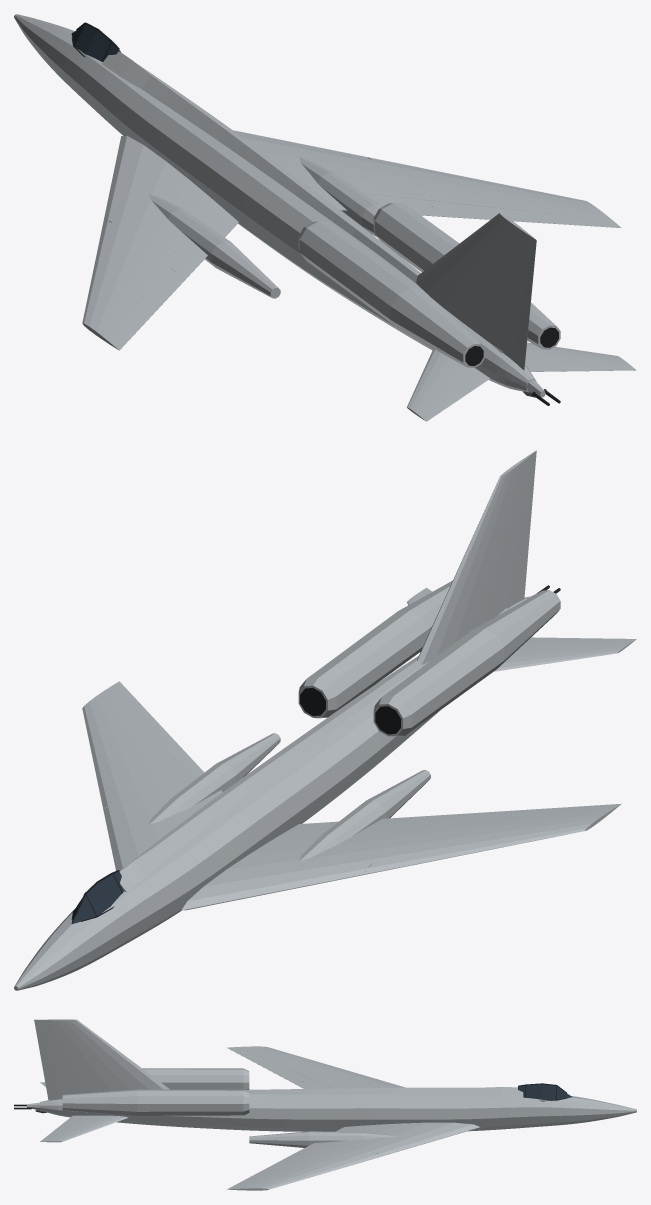
3 views of the same model, one above another, from view 1: azimuth 30°, elevation 25°; view 2: azimuth 150°, elevation 25°; view 3: azimuth 270°, elevation 25° (orthographic). The views are drawn at different scales.
Visible parts, largest first — view 1: Fuselage, Wing L, Nacelles, Wing R, Vertical Fin, Gear Pods, Dorsal Spine, Rudder, Flap L, Stabilizer L, Flap R, Elevator L (+5 smaller); view 2: Fuselage, Nacelles, Wing L, Wing R, Vertical Fin, Gear Pods, Dorsal Spine, Rudder, Stabilizer L, Flap L, Cockpit Glass, Flap R (+3 smaller); view 3: Fuselage, Nacelles, Wing R, Vertical Fin, Wing L, Rudder, Dorsal Spine, Gear Pods, Stabilizer R, Cockpit Glass, Flap R, Flap L (+3 smaller).
Part boxes in pixels (x1,y1,x2,y2): Fuselage: [14, 14, 536, 392]; Wing L: [82, 135, 238, 350]; Nacelles: [298, 203, 560, 367]; Wing R: [233, 130, 621, 227]; Vertical Fin: [416, 213, 523, 335]; Gear Pods: [149, 157, 382, 298]; Dorsal Spine: [102, 51, 502, 352]; Rudder: [480, 230, 536, 370]; Flap L: [155, 206, 231, 292]; Stabilizer L: [407, 348, 467, 417]; Flap R: [310, 187, 476, 218]; Elevator L: [420, 367, 490, 421]; Fuselage: [14, 596, 530, 990]; Nacelles: [298, 580, 560, 736]; Wing L: [182, 803, 621, 910]; Wing R: [82, 681, 198, 870]; Vertical Fin: [417, 459, 524, 664]; Gear Pods: [148, 733, 430, 861]; Dorsal Spine: [120, 608, 507, 892]; Rudder: [488, 450, 536, 620]; Stabilizer L: [494, 643, 630, 671]; Flap L: [292, 813, 475, 838]; Cockpit Glass: [71, 871, 123, 924]; Flap R: [156, 739, 222, 809]; Fuselage: [40, 1094, 636, 1131]; Nacelles: [62, 1068, 249, 1115]; Wing R: [227, 1122, 479, 1190]; Vertical Fin: [49, 1019, 169, 1092]; Wing L: [227, 1046, 405, 1088]; Rudder: [34, 1019, 91, 1100]; Dorsal Spine: [245, 1087, 523, 1098]; Gear Pods: [249, 1131, 395, 1147]; Stabilizer R: [47, 1115, 128, 1142]; Cockpit Glass: [518, 1084, 571, 1100]; Flap R: [280, 1128, 367, 1161]; Flap L: [279, 1074, 331, 1088].
Size of the model in its own units: 23.4 by 8.45 by 43.4.
